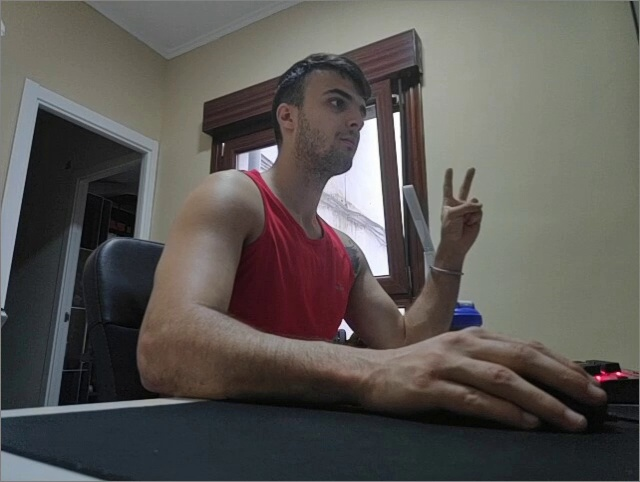Peace: (439, 165, 485, 245)
